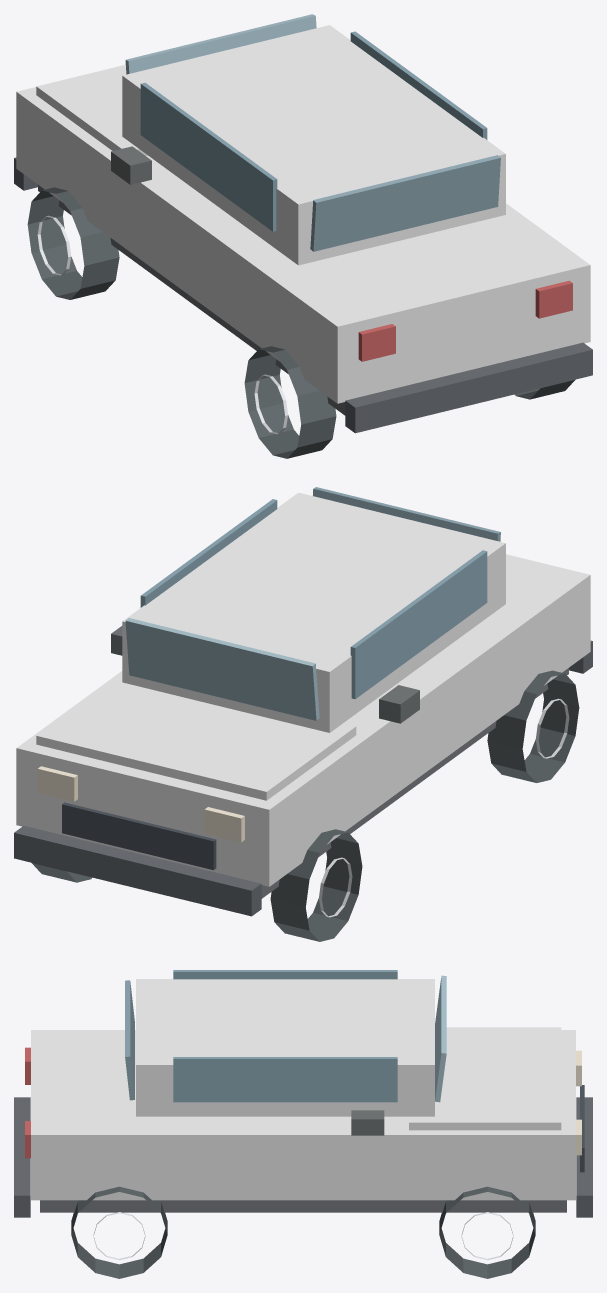
File: gol.glb
The picture shows the model from 3 angles, top to bottom: view 1: azimuth 30°, elevation 25°; view 2: azimuth 150°, elevation 25°; view 3: azimuth 270°, elevation 25°; orthographic projection. The views are drawn at different scales.
Parts seen in each view (by area): view 1: painted_body, cabin, tire (×2), rear_glass, side_window (×2), rear_bumper, hood, windshield, taillight (×2), chassis, mirror; view 2: painted_body, cabin, hood, tire (×2), windshield, side_window (×2), front_bumper, grille, headlight (×2), rear_glass, chassis, mirror; view 3: painted_body, cabin, hood, side_window (×2), chassis, tire (×2), rear_bumper, front_bumper, windshield, rear_glass, mirror.
Boxes of the visible parts, <box> form: painted_body: <box>16,87,590,403</box>; cabin: <box>122,25,505,265</box>; tire (×2): <box>27,187,336,458</box>; rear_glass: <box>310,155,500,251</box>; side_window (×2): <box>140,31,487,231</box>; rear_bumper: <box>345,342,592,433</box>; hood: <box>36,64,147,155</box>; windshield: <box>125,14,316,74</box>; taillight (×2): <box>358,280,572,361</box>; chassis: <box>38,185,345,415</box>; mirror: <box>111,146,151,184</box>; painted_body: <box>16,554,590,886</box>; cabin: <box>122,492,505,732</box>; hood: <box>36,673,356,800</box>; tire (×2): <box>270,670,579,941</box>; windshield: <box>125,618,319,720</box>; side_window (×2): <box>140,499,487,699</box>; front_bumper: <box>14,826,261,916</box>; grille: <box>62,802,216,870</box>; headlight (×2): <box>37,766,244,842</box>; rear_glass: <box>313,487,500,541</box>; chassis: <box>261,668,568,898</box>; mirror: <box>379,685,419,723</box>; painted_body: <box>31,1030,575,1200</box>; cabin: <box>136,979,434,1116</box>; hood: <box>409,1027,561,1130</box>; side_window (×2): <box>173,970,397,1102</box>; chassis: <box>40,1200,566,1212</box>; tire (×2): <box>71,1186,535,1278</box>; rear_bumper: <box>14,1097,30,1217</box>; front_bumper: <box>576,1097,592,1217</box>; windshield: <box>435,975,446,1102</box>; rear_glass: <box>125,980,134,1100</box>; mirror: <box>351,1110,384,1135</box>.
Size of the model in its own units: 1.89 by 1.52 by 3.85.
